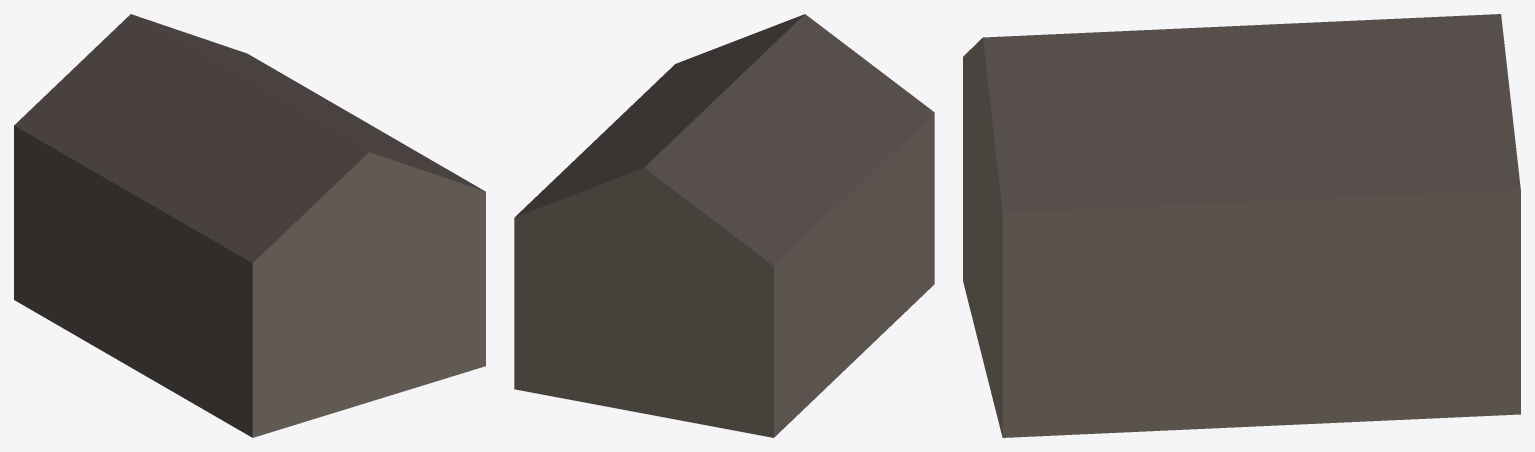
3 renders of one model, left to right at view 1: azimuth 30°, elevation 25°; view 2: azimuth 150°, elevation 25°; view 3: azimuth 270°, elevation 25°, orthographic. The views are drawn at different scales.
Visible parts, largest first — view 1: HP-w859457406; view 2: HP-w859457406; view 3: HP-w859457406.
Boxes of the visible parts, x1=… form: HP-w859457406: x1=14, y1=14, x2=485, y2=437; HP-w859457406: x1=514, y1=14, x2=934, y2=437; HP-w859457406: x1=963, y1=14, x2=1520, y2=437.
Size of the model in its own units: 10.29 by 8.6 by 13.48.
